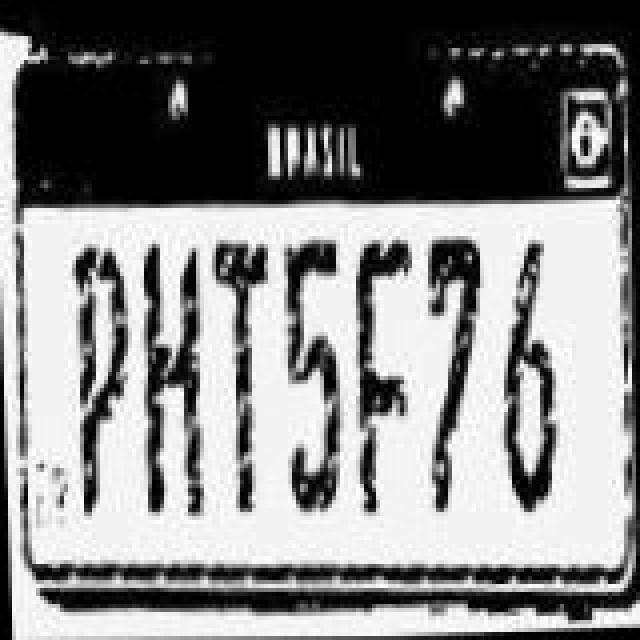5: (276, 206, 352, 510)
6: (486, 214, 566, 514)
7: (412, 222, 496, 518)
F: (348, 214, 424, 530)
H: (136, 218, 220, 538)
P: (68, 226, 144, 542)
T: (200, 222, 284, 522)
